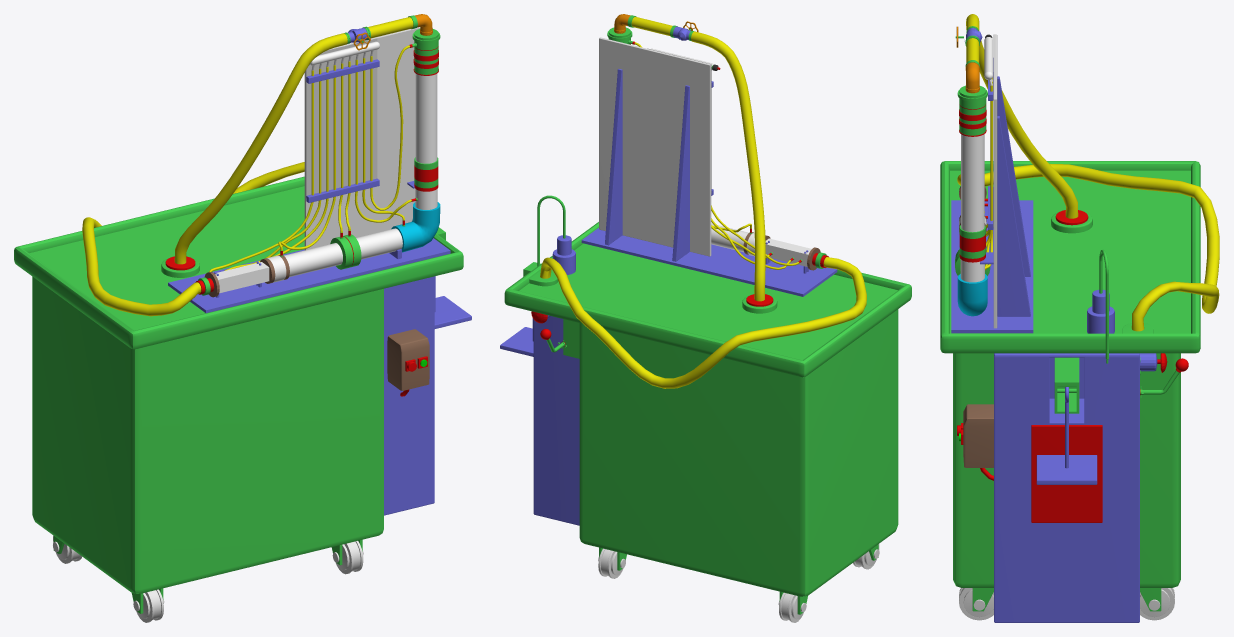
The model's file is Meter_Table (1).fbx.
3 views of the same model, side by side, from view 1: azimuth 30°, elevation 25°; view 2: azimuth 150°, elevation 25°; view 3: azimuth 270°, elevation 25° (orthographic). The views are drawn at different scales.
Visible parts, largest first — view 1: pCube3, pCube26, pCube4, pCube29, pCube25, pPipe7, pCylinder120, polySurface22, pCylinder121, pCube14, pasted__pCylinder14, pCylinder60 (+8 smaller); view 2: pCube3, pCube26, pCube4, polySurface22, pCube25, pCube38, pPipe7, pCube32, pCylinder121, TableX01_1:pTorus1, pCylinder17; view 3: pCube3, pCube4, polySurface22, pCube38, pCube25, pCylinder60, pPipe7, TableX01_1:pTorus1, pCube14, pCube26, pCylinder13, pCylinder59 (+9 smaller).
Boxes of the visible parts, x1,y1,x2,y2 form: pCube3: (14,176,463,622); pCube26: (304,27,420,250); pCube4: (384,276,434,515); pCube29: (306,38,377,197); pCube25: (168,238,450,313); pPipe7: (174,33,347,264); pCylinder120: (311,56,372,195); polySurface22: (82,162,304,316); pCylinder121: (209,45,411,271); pCube14: (387,329,429,396); pasted__pCylinder14: (284,228,402,277); pCylinder60: (415,73,437,163); pCube3: (504,222,911,622); pCube26: (599,37,711,256); pCube4: (533,316,579,525); polySurface22: (540,257,866,388); pCube25: (581,228,837,296); pCube38: (605,69,689,261); pPipe7: (691,31,765,301); pCube32: (765,238,811,266); pCylinder121: (634,42,799,269); TableX01_1:pTorus1: (500,318,533,356); pCylinder17: (552,235,575,274); pCube3: (940,161,1200,620); pCube4: (994,353,1143,622); polySurface22: (957,163,1219,331); pCube38: (997,76,1030,316); pCube25: (951,200,1033,333); pCylinder60: (961,134,984,232); pPipe7: (966,14,1078,218); TableX01_1:pTorus1: (1036,387,1097,484); pCube14: (961,404,993,480); pCube26: (993,34,997,328); pCylinder13: (1054,357,1079,413); pCylinder59: (957,85,987,136).
Bounding box in the file's own units: 135 × 183 × 78.4.
